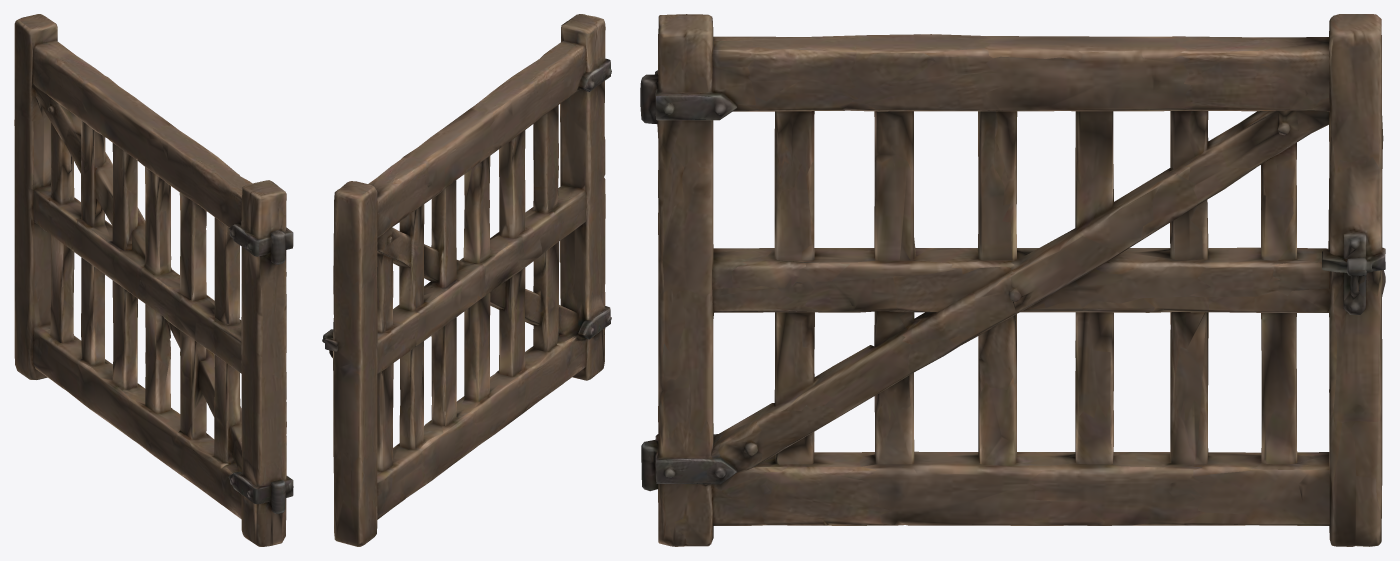
The model's file is timber-gate-tripo.glb.
3 views of the same model, side by side, from view 1: azimuth 30°, elevation 25°; view 2: azimuth 150°, elevation 25°; view 3: azimuth 270°, elevation 25° (orthographic). The views are drawn at different scales.
Visible parts, largest first — view 1: tripo_node_ae5b8f89-2ec7-41a7-98e5-53667d0764ba; view 2: tripo_node_ae5b8f89-2ec7-41a7-98e5-53667d0764ba; view 3: tripo_node_ae5b8f89-2ec7-41a7-98e5-53667d0764ba.
Part boxes in pixels (bbox=[...]): tripo_node_ae5b8f89-2ec7-41a7-98e5-53667d0764ba: bbox=[14, 14, 293, 546]; tripo_node_ae5b8f89-2ec7-41a7-98e5-53667d0764ba: bbox=[322, 14, 611, 546]; tripo_node_ae5b8f89-2ec7-41a7-98e5-53667d0764ba: bbox=[640, 14, 1385, 546].
Size of the model in its own units: 0.1167 by 0.7643 by 0.9998.
1 material, 1 textured.
